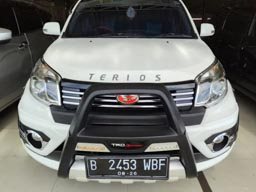plat: (85, 158, 169, 170)
